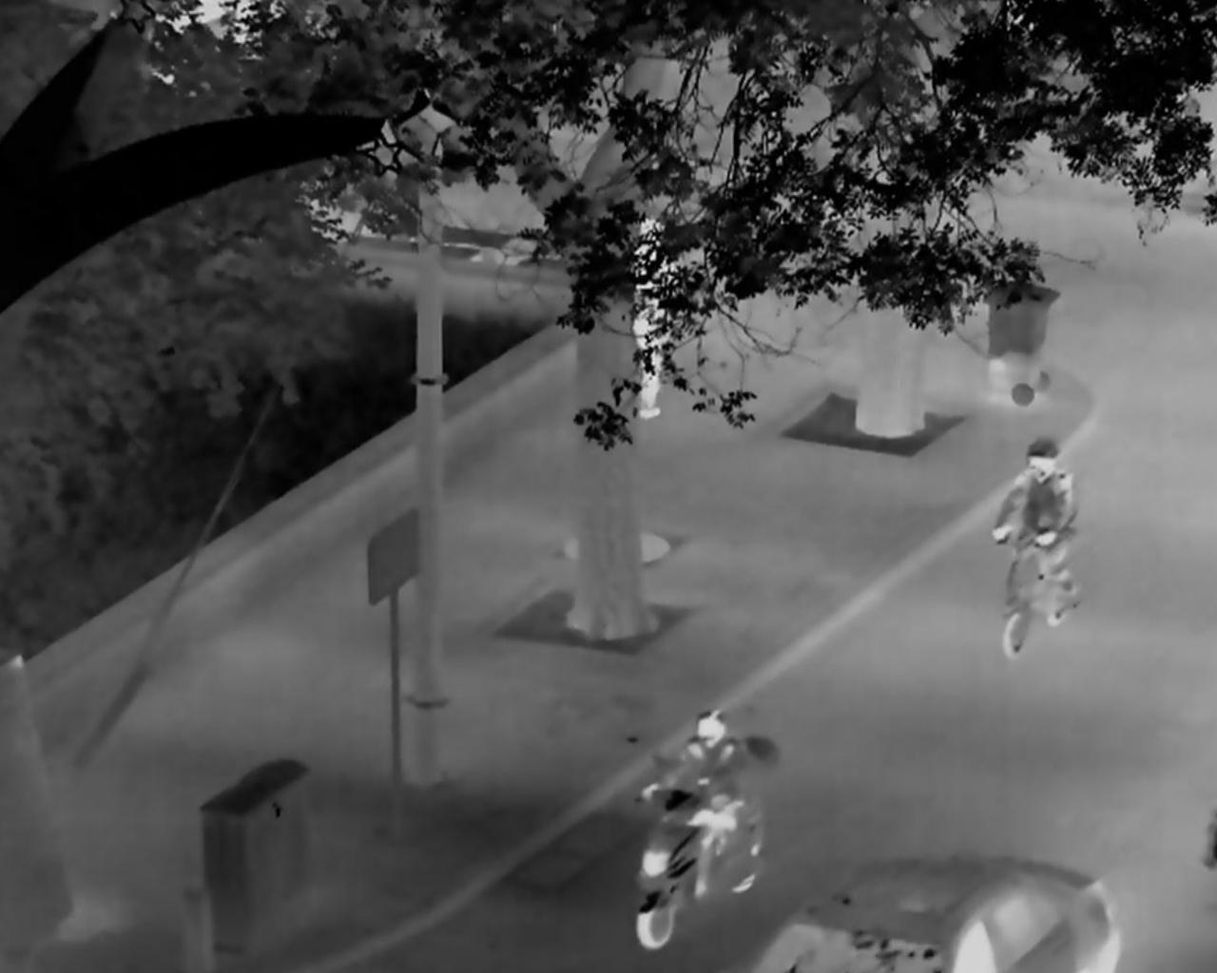person: (637, 710, 744, 896), (992, 438, 1076, 598), (631, 215, 679, 417)
